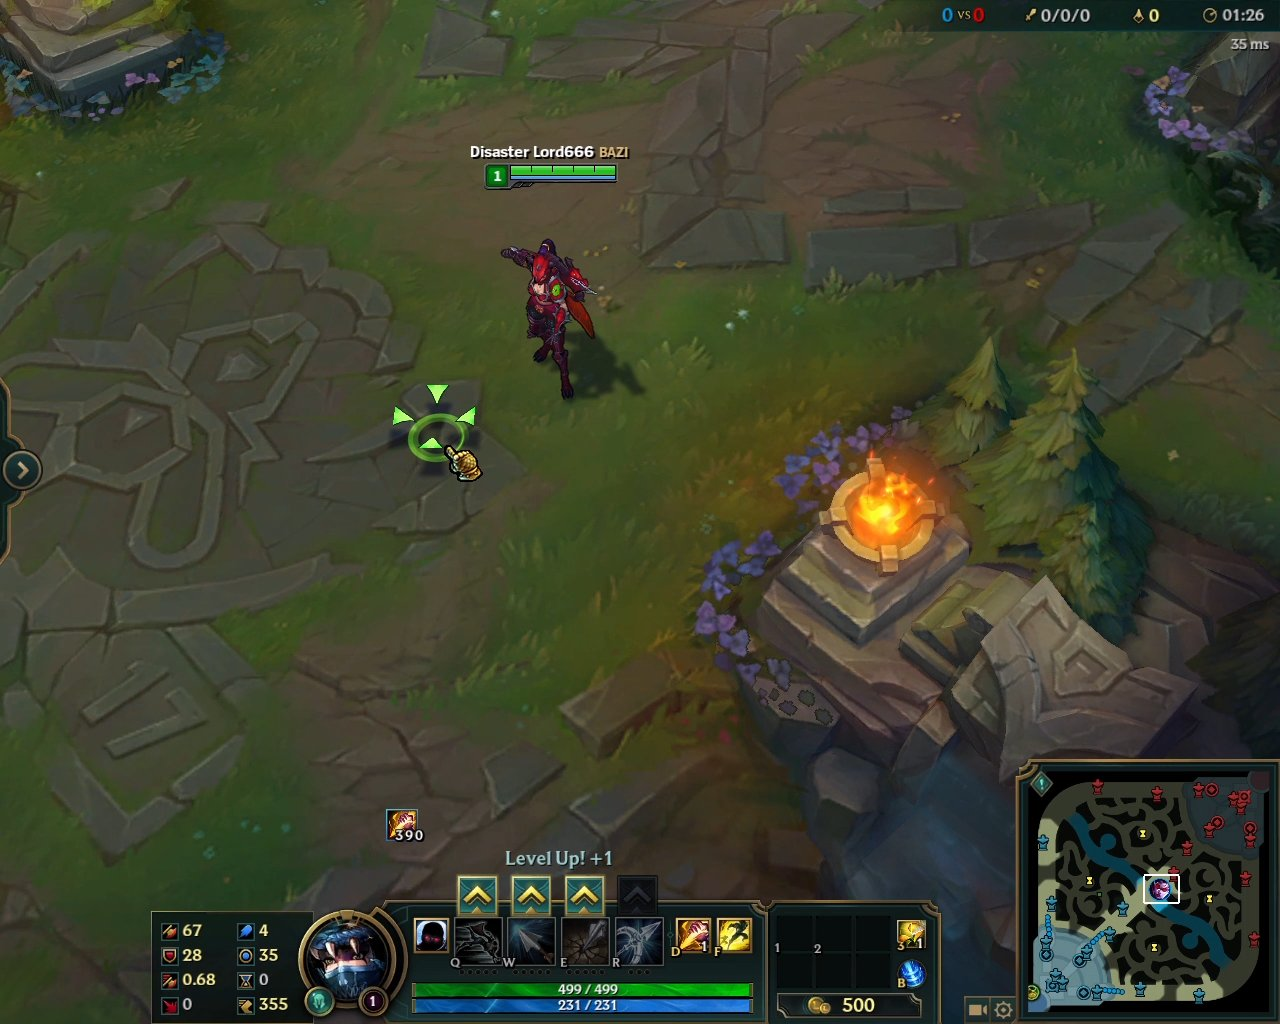Vayne: (492, 222, 608, 409)
